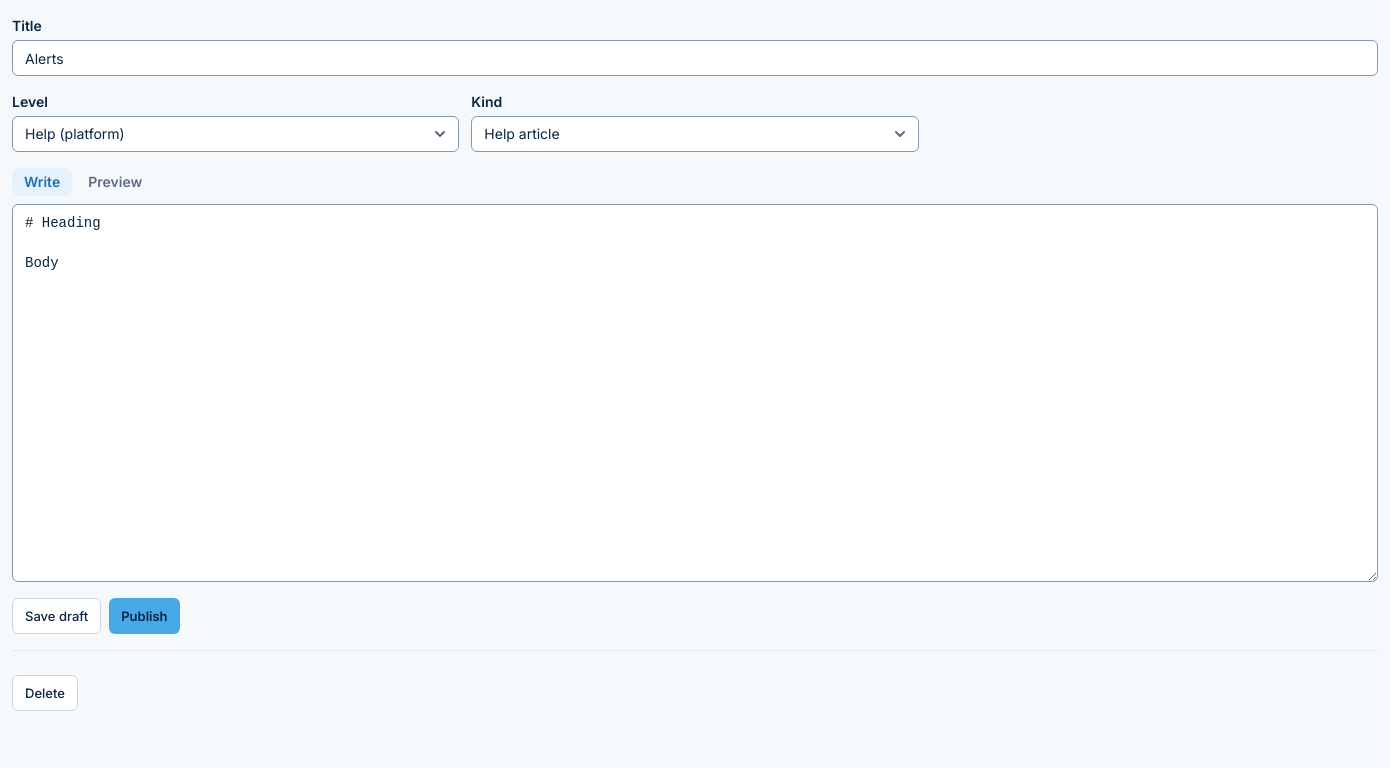
Scenario: KbEditor › previews the Markdown, and the client-visible checkbox shows only at agency level
Expected: the field labelled "Visible to client users" is not shown
Click the tab "Preview" at (115, 182), box [76,168,154,196]
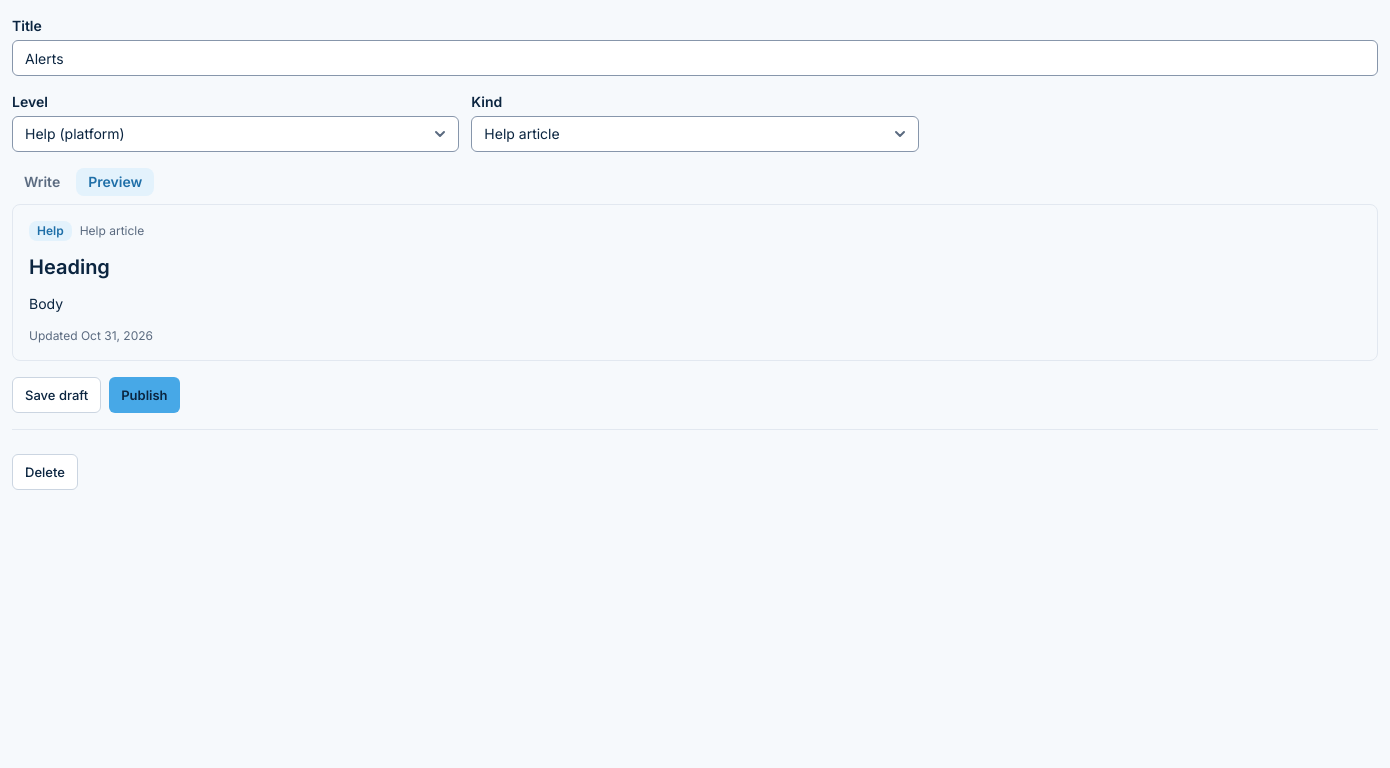
Expected: the heading "Heading" is shown, [29,255,110,279]
Select "Agency" in the dropdown labelled "Level" at (236, 134), box [12,116,459,152]
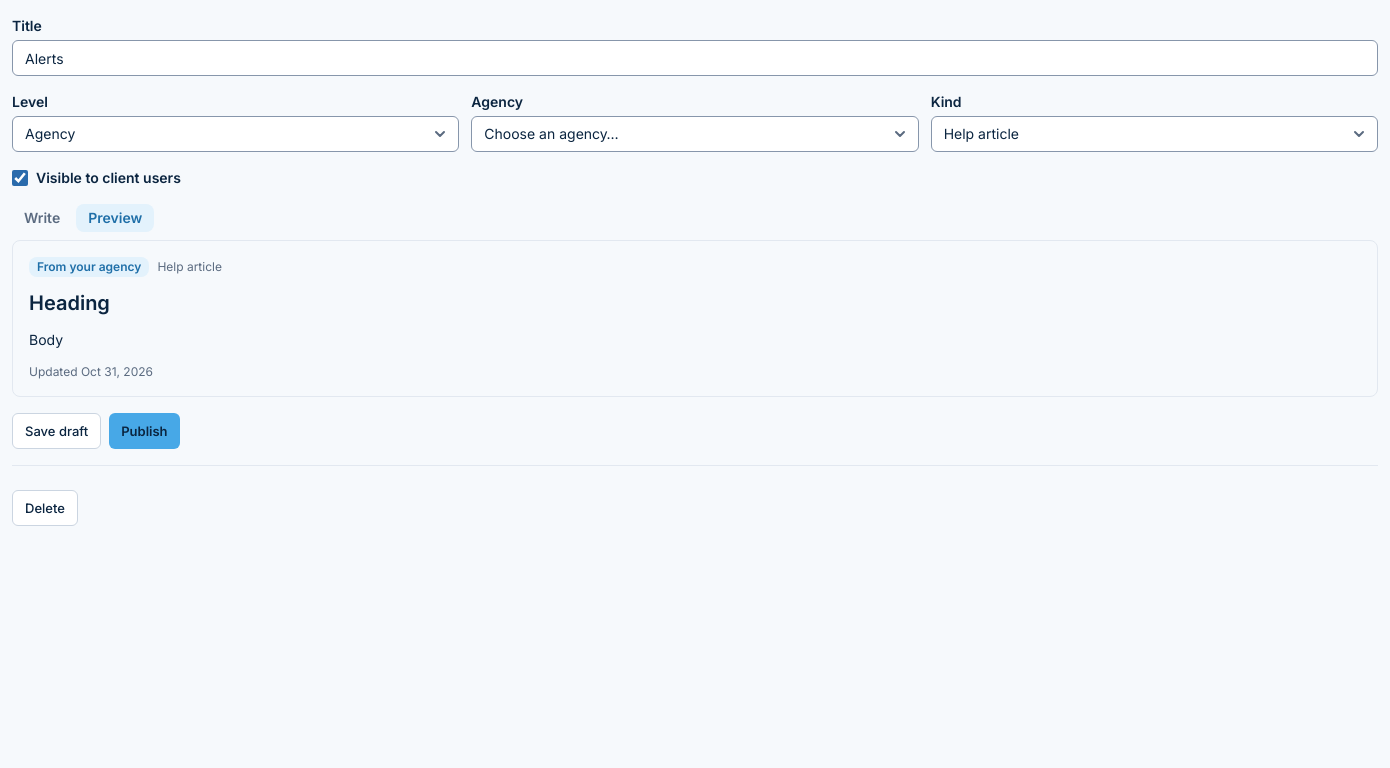
Expected: the checkbox labelled "Visible to client users" is shown, [12,170,28,186]
Expected: the dropdown labelled "Agency" is shown, [471,116,919,152]
